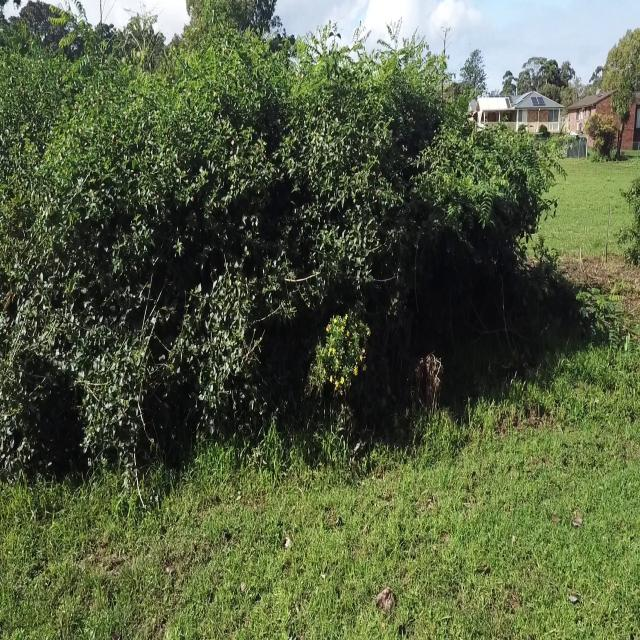Mysore-Thorn-Weed: (477, 122, 574, 232), (168, 14, 240, 106), (370, 18, 446, 97), (47, 4, 106, 88), (292, 33, 351, 114), (572, 281, 624, 334)
